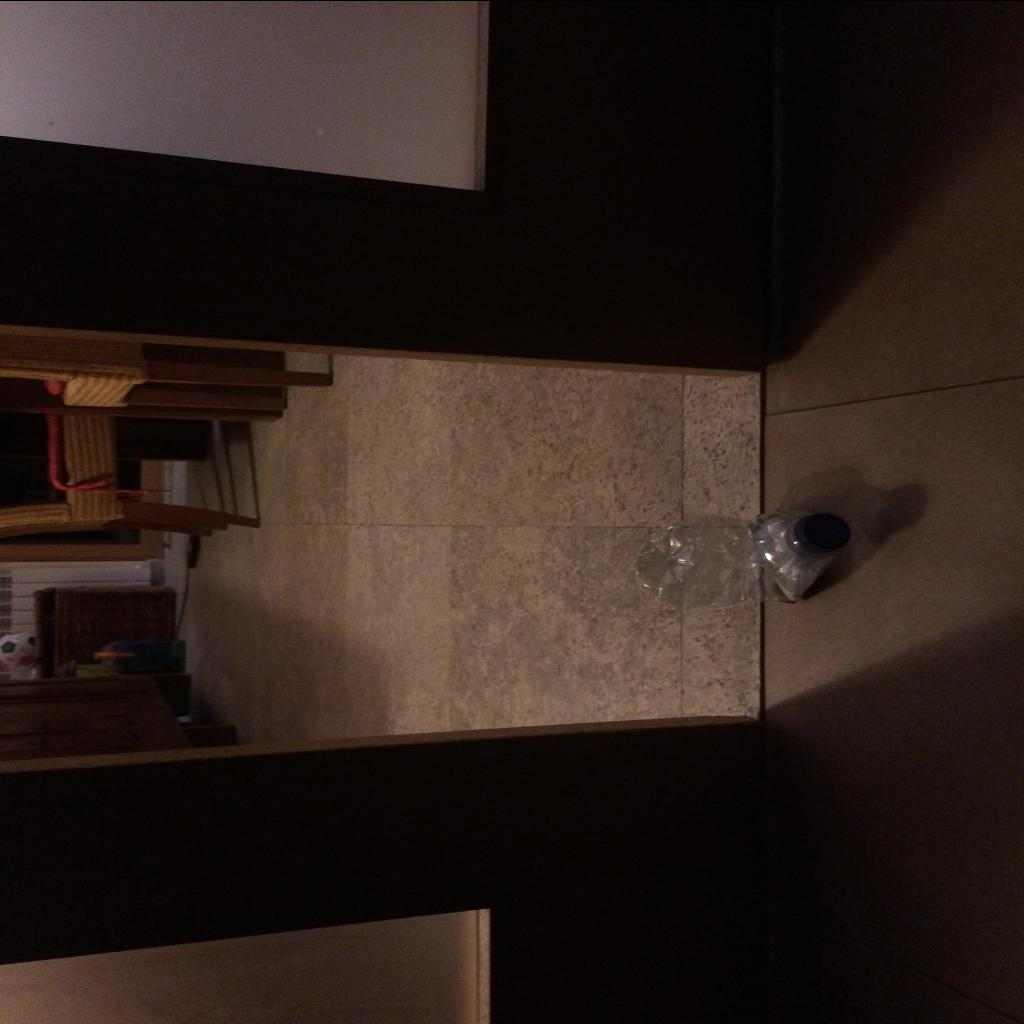Clear plastic bottle: (630, 508, 852, 608)
Plastic bottle cap: (795, 514, 851, 552)
